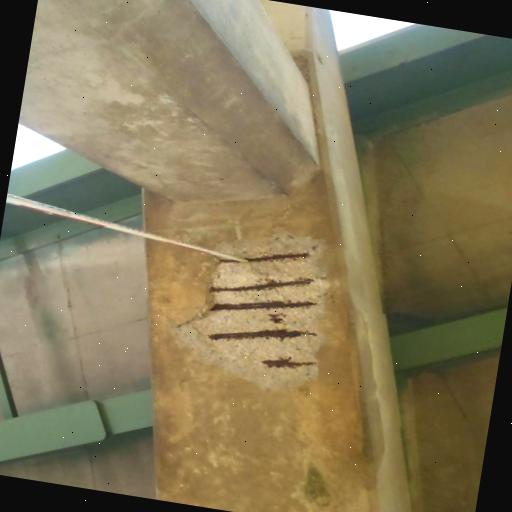spalling: (173, 237, 318, 390)
